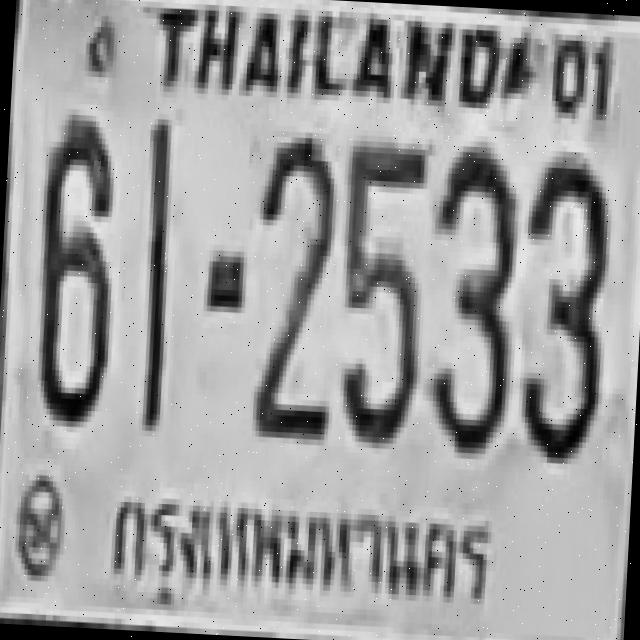1: (135, 114, 176, 432), (134, 116, 174, 417)
2: (248, 130, 338, 440)
3: (513, 152, 611, 456), (424, 142, 518, 452)
5: (331, 138, 426, 442)
6: (30, 113, 120, 423)
Bangkok: (103, 466, 501, 634)
